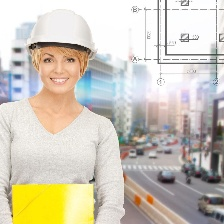helmet: (28, 11, 96, 54)
no-vest: (0, 100, 127, 224)
person: (2, 6, 119, 224)
